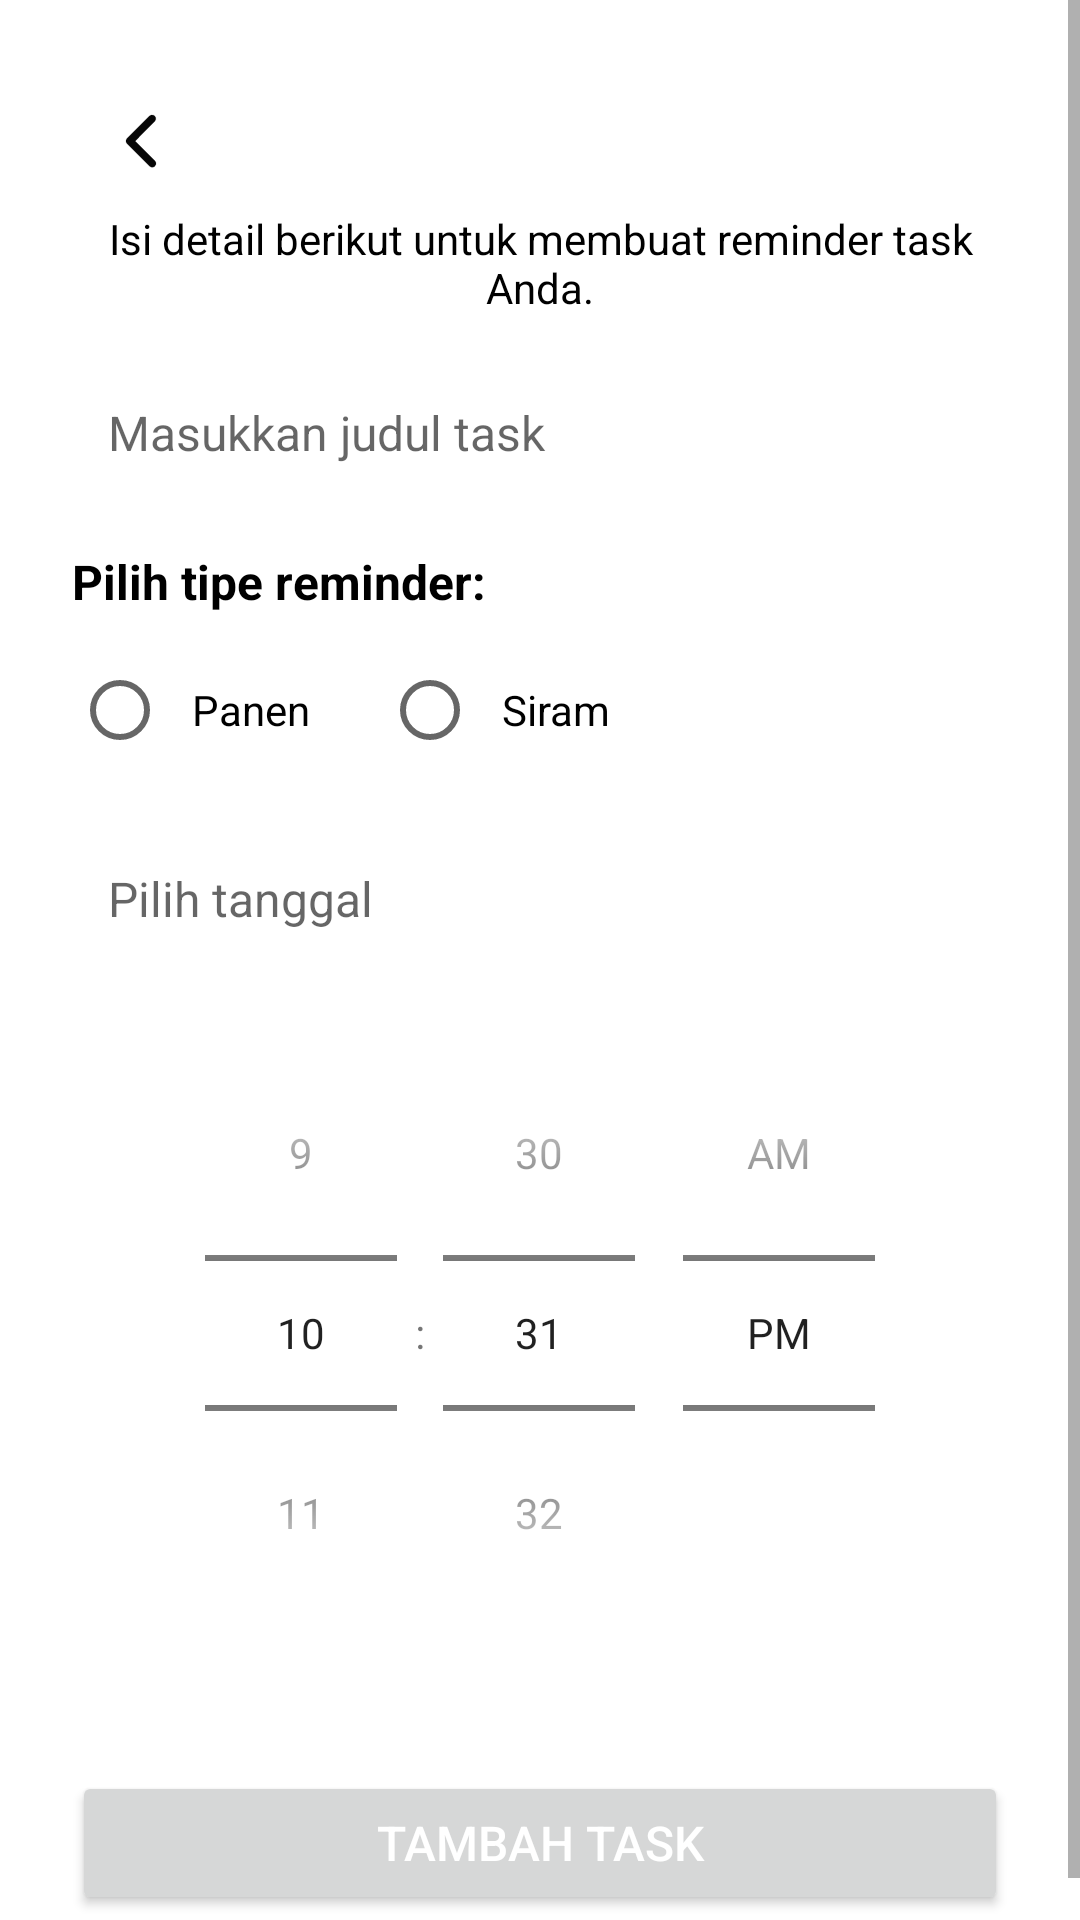

Icon bounding boxes for this 1080*1920 phone screenshot, format (x1, y1, x2, y2):
Back: (126, 115, 156, 168)
